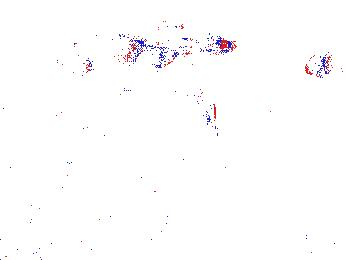glassfish: (183, 68, 223, 139)
redtail glassfish: (127, 29, 234, 64), (50, 46, 100, 73), (303, 50, 330, 78), (99, 29, 132, 51)
